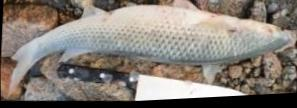fish: (9, 0, 292, 87)
